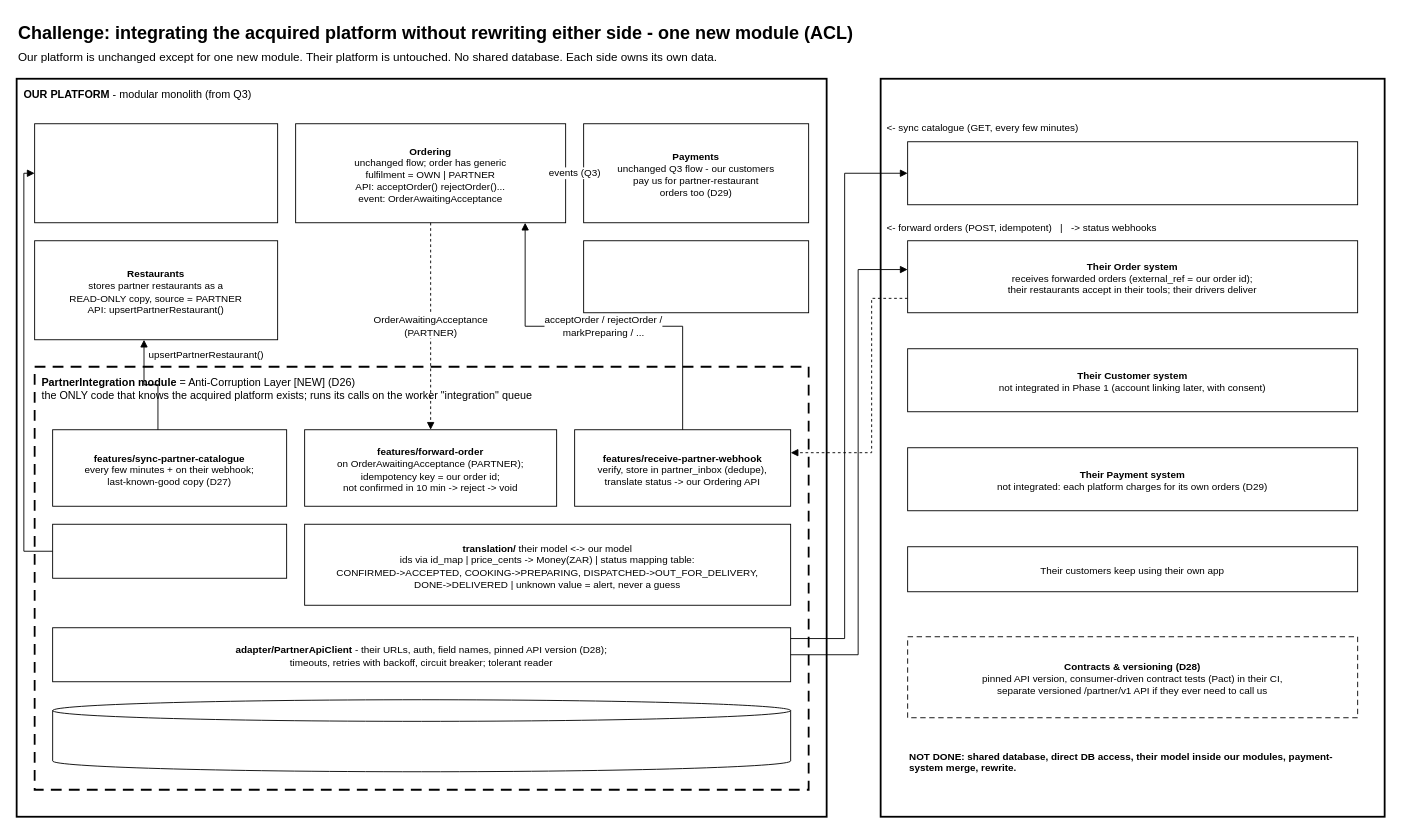
Some shapes in this 1427 by 833 pixel diagram are drawn without their labels. The shapes that lost their labels are listed below. From the top down, each one's box as (x1, y1, x2, y2) in pixels, then its label:
(34, 123, 278, 223): Reporting Our / Acquired / Total (partner_daily_summary)
(907, 141, 1358, 205): Their Restaurant system source of truth for their restaurants + menus
(583, 240, 809, 313): Delivery not used for PARTNER orders (their drivers deliver)
(879, 77, 1385, 817): ACQUIRED PLATFORM - unchanged, owns its own data
(52, 523, 287, 578): features/pull-partner-reports nightly daily totals -> Reporting
(52, 699, 791, 772): partner_integration schema : id_map, partner_inbox, outbox
